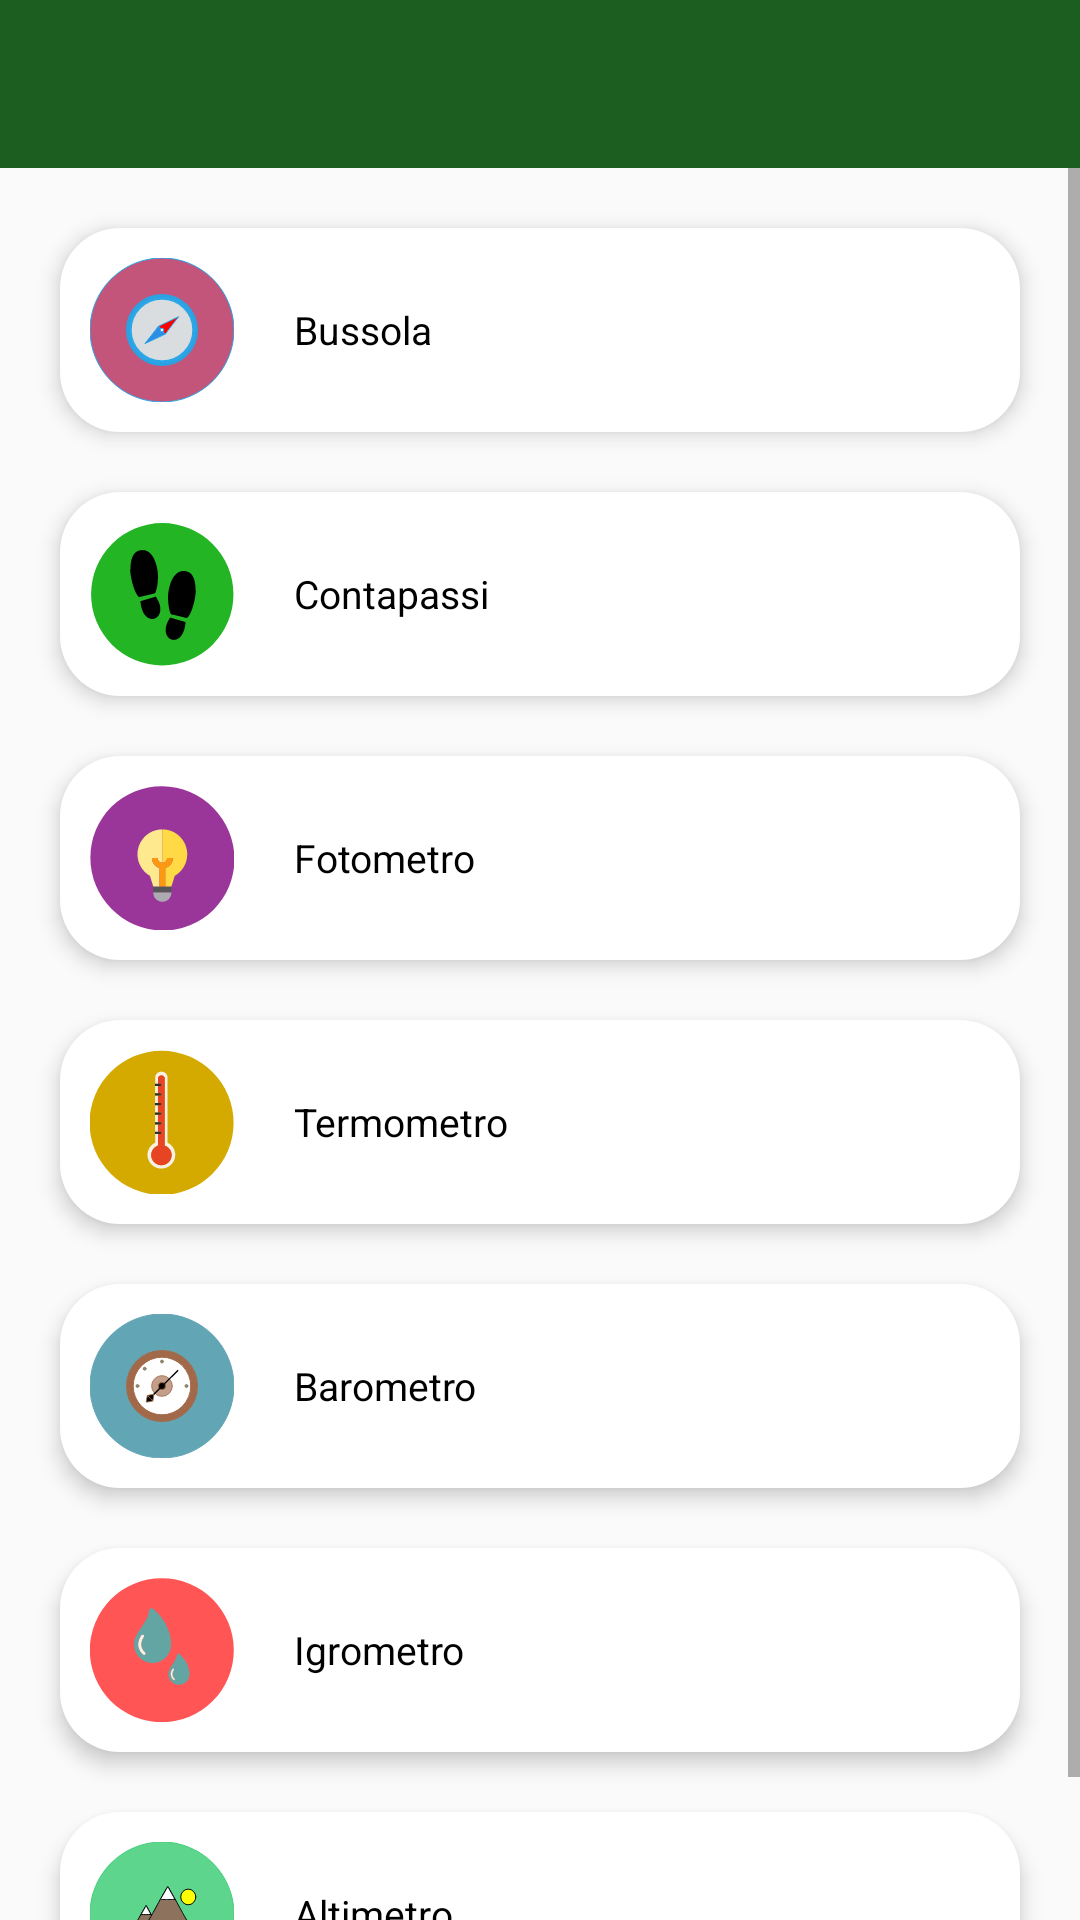

Screen size 1080 × 1920. Icon name, then its center in pixels as (x,y):
lampadina: (162,858)
umidita: (162,1650)
